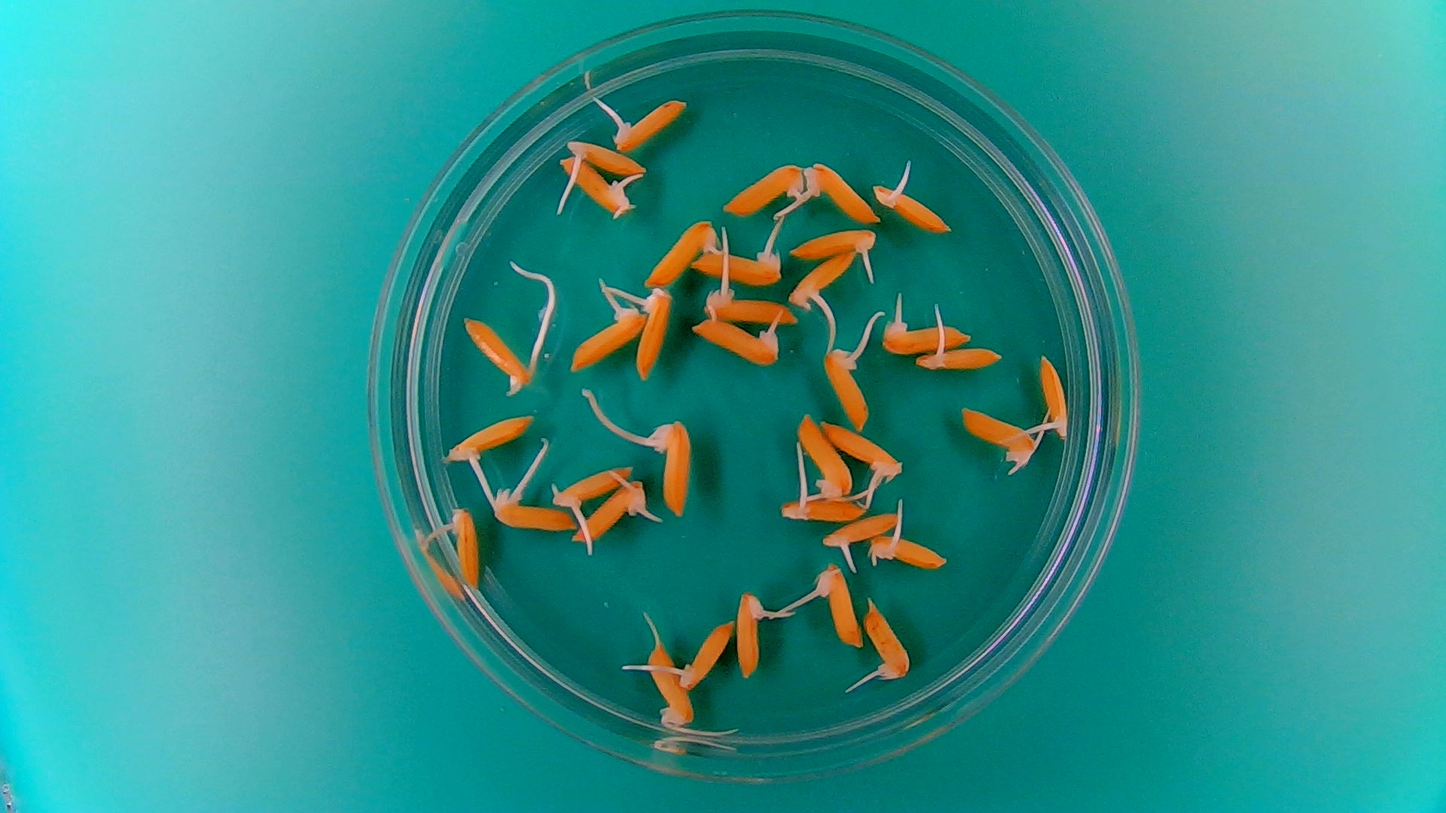yes: (640, 217, 720, 288), (801, 157, 881, 225), (718, 157, 806, 218), (688, 312, 782, 368), (688, 233, 784, 285), (797, 416, 856, 500), (821, 419, 902, 480), (573, 309, 649, 373), (820, 341, 872, 434), (572, 481, 648, 544), (955, 403, 1036, 462), (458, 318, 527, 387), (444, 413, 536, 464), (788, 249, 860, 314), (558, 154, 638, 212), (613, 98, 692, 152), (676, 623, 736, 693), (871, 184, 953, 235), (644, 645, 697, 722), (701, 286, 798, 327), (863, 604, 913, 681), (548, 467, 636, 510), (816, 565, 862, 647), (490, 492, 578, 534), (866, 529, 950, 573), (655, 419, 691, 519), (445, 502, 483, 592), (1035, 351, 1072, 443), (787, 227, 881, 263), (823, 509, 905, 550), (883, 321, 973, 358), (635, 290, 671, 376), (566, 139, 645, 177), (777, 490, 867, 523), (914, 343, 1008, 374), (735, 594, 768, 681)
